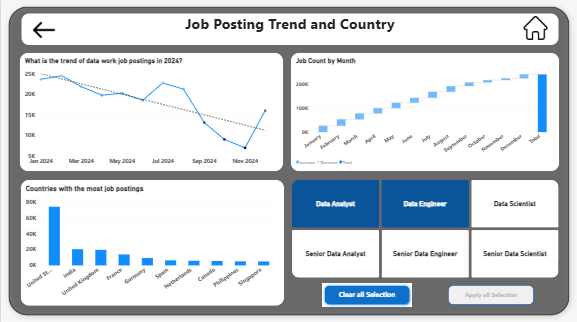

The page's visual inventory and layout, read from the dashboard file:
{"tool":"powerbi","page":{"name":"Job Posting Country and Date","canvas":[1920,1080],"ordinal":3},"visuals":[{"type":"shape","box":[0,0,1920,1080],"z":0},{"type":"textbox","box":[62.5,42.5,1800,115],"z":1000},{"type":"lineChart","title":"What is the trend of data work job postings in 2024?","fields":{"Y":["CountNonNull(job_postings_flat.job_title_short)"],"Category":["job_postings_flat.job_posted_date.Variation.Date Hierarchy.Year","job_postings_flat.job_posted_date.Variation.Date Hierarchy.Quarter","job_postings_flat.job_posted_date.Variation.Date Hierarchy.Month","job_postings_flat.job_posted_date.Variation.Date Hierarchy.Day"]},"box":[60,175,882.5,400],"z":2000},{"type":"advancedSlicerVisual","fields":{"Values":["job_postings_flat.job_title_short"]},"box":[967.5,600,895,332.5],"z":3000},{"type":"actionButton","box":[1070,945,300,80],"z":4000},{"type":"actionButton","box":[1482.5,947.5,300,80],"z":5000},{"type":"clusteredColumnChart","title":"Countries with the most job postings","fields":{"Category":["job_postings_flat.job_country"],"Y":["CountNonNull(job_postings_flat.job_title_short)"]},"box":[62.5,600,882.5,425],"z":6000},{"type":"waterfallChart","title":"Job Count by Month","fields":{"Category":["job_postings_flat.job_posted_date.Variation.Date Hierarchy.Month"],"Y":["CountNonNull(job_postings_flat.job_title_short)"]},"box":[962.5,175,900,400],"z":7000},{"type":"image","box":[62.5,62.5,160,80],"z":8000},{"type":"image","box":[1727.5,55,110,80],"z":9000}]}

Visuals, with their boxes in screenshot pixels (x1, y1, x2, y2), scaled from the page's 1920x1080 canvas onto the 577x322 screenshot:
shape: 0:0:576:321
textbox: 19:13:560:47
"What is the trend of data work job postings in 2024?" lineChart: 18:52:283:171
advancedSlicerVisual - job_postings_flat.job_title_short: 291:179:560:278
actionButton: 322:282:412:306
actionButton: 446:282:536:306
"Countries with the most job postings" clusteredColumnChart: 19:179:284:306
"Job Count by Month" waterfallChart: 289:52:560:171
image: 19:19:67:42
image: 519:16:552:40
